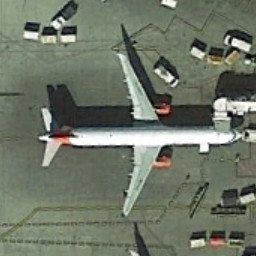Airplane: (30, 48, 247, 234)
